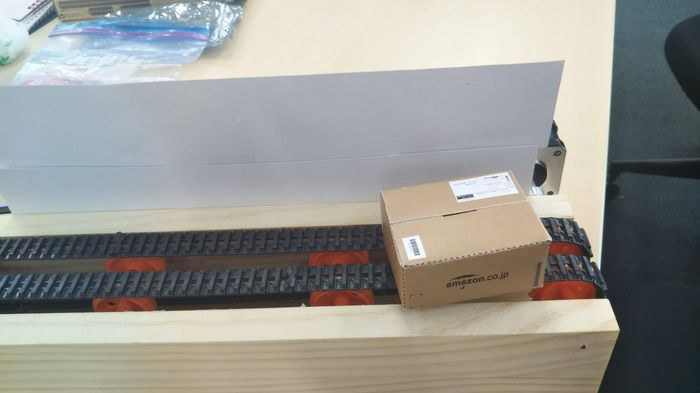box1: (378, 170, 551, 311)
